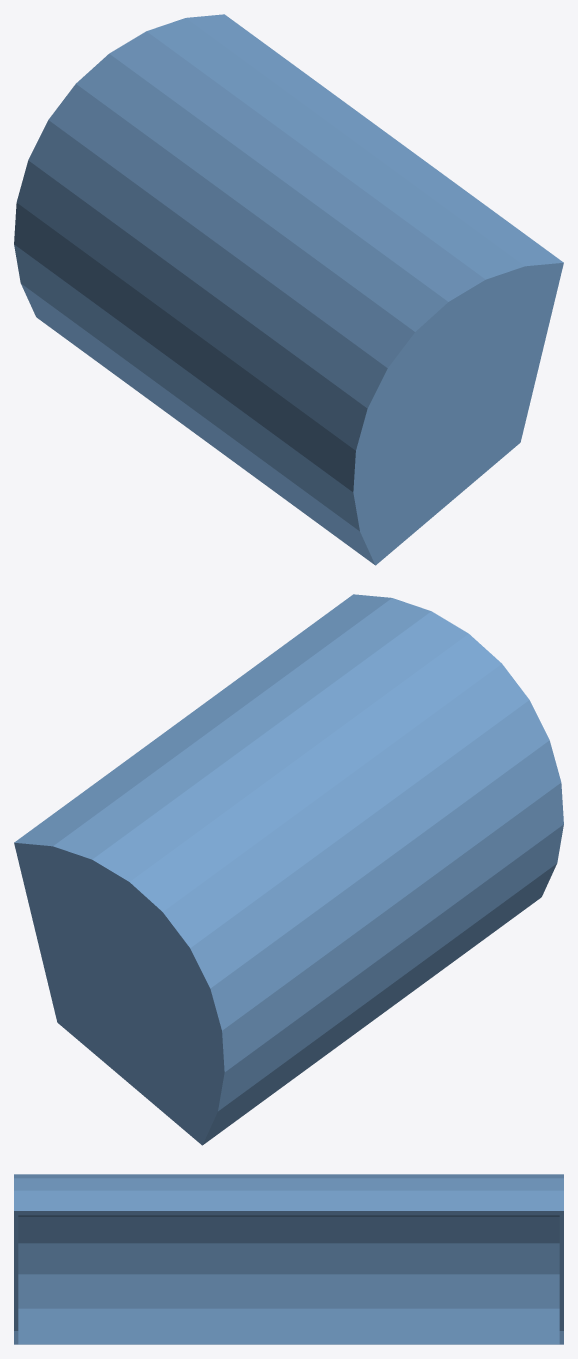
File: chair_6pack_hood_up.obj
3 renders of one model, top to bottom at view 1: azimuth 30°, elevation 25°; view 2: azimuth 150°, elevation 25°; view 3: azimuth 270°, elevation 25°, orthographic. The views are drawn at different scales.
Bounding box in the file's own units: 1.36 × 1.62 × 3.79.
